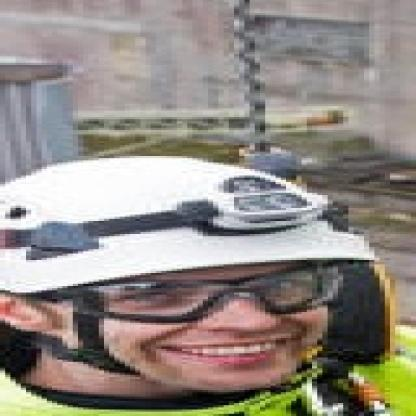capacete: (8, 158, 350, 258)
oculos: (82, 272, 340, 322)
